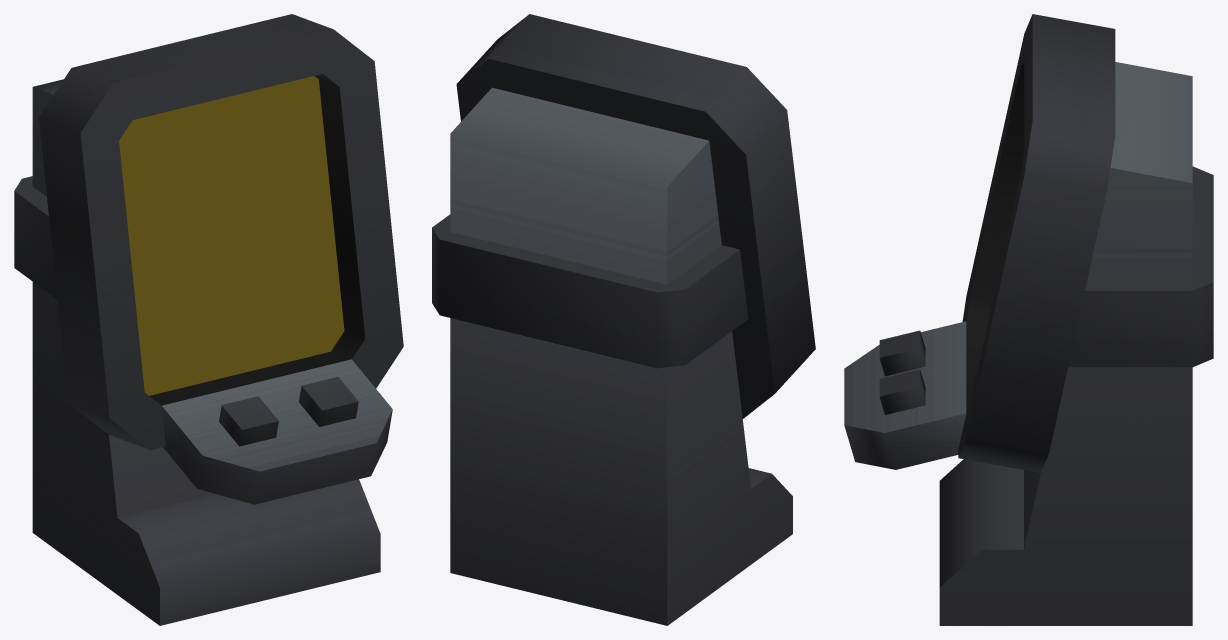
File: s_computer.glb
3 renders of one model, left to right at view 1: azimuth 30°, elevation 25°; view 2: azimuth 150°, elevation 25°; view 3: azimuth 270°, elevation 25°, orthographic.
Visible parts, largest first — view 1: computer; view 2: computer; view 3: computer.
Boxes of the visible parts, x1,y1,x2,y2 form: computer: (14,14,403,625); computer: (432,14,815,625); computer: (844,14,1213,625).
Size of the model in its own units: 0.4 by 0.6609 by 0.4381.
Materials: 1 (1 with a texture image).
